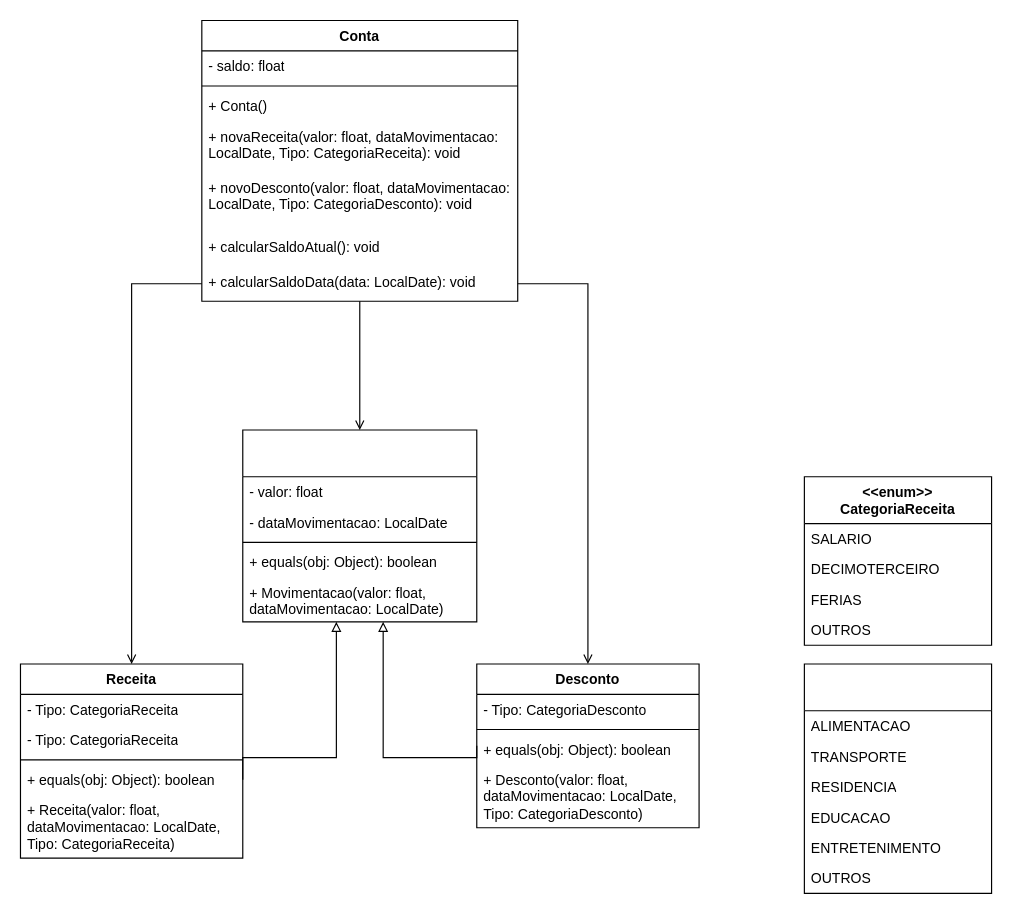
The diagram is 1012 pixels wide and 917 high, and some of its shapes have lost their labels. The shapes that lost their labels are listed below. From the top down, each one's box as (x1, y1, x2, y2) in pixels, then its label:
(242, 429, 477, 622): <<abstract>> Movimentacao
(803, 663, 992, 893): <<enum>> CategoriaDesconto
